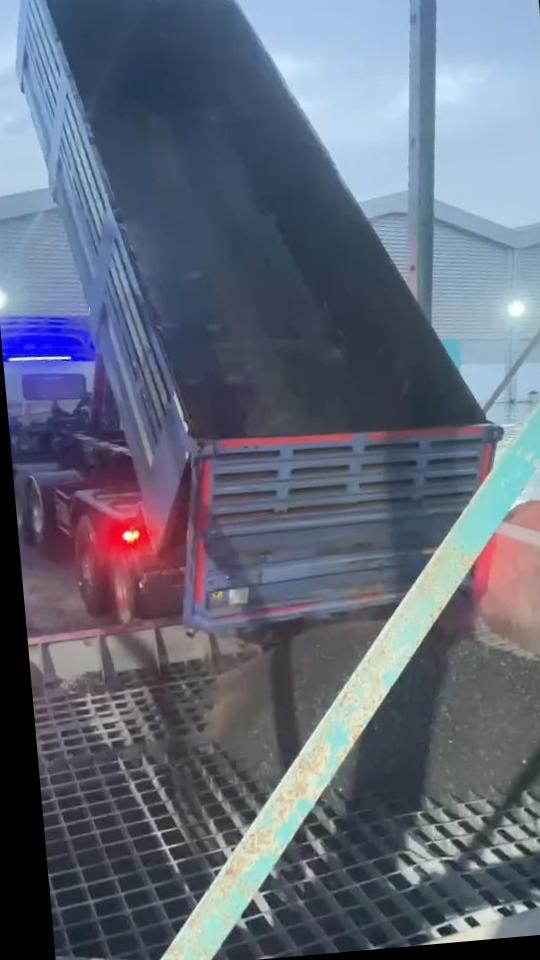gravel: (331, 622, 540, 807), (207, 619, 382, 784), (45, 744, 166, 769)
sand: (507, 481, 540, 542)
